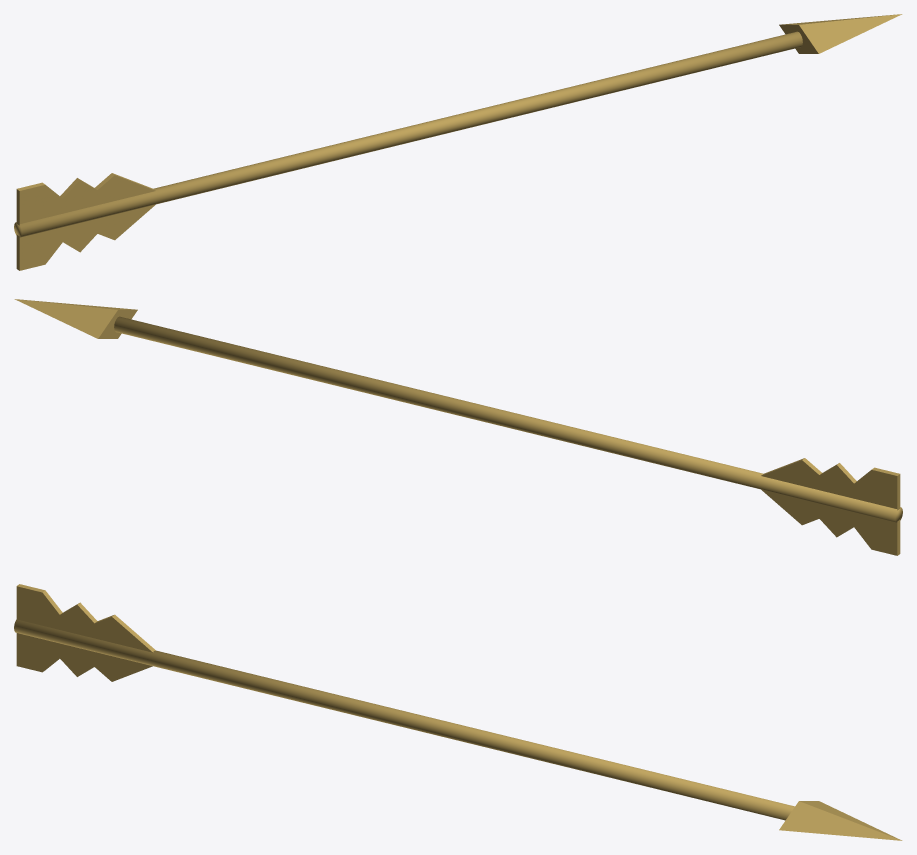
The model's file is aerrowsnake.glb.
3 views of the same model, one above another, from view 1: azimuth 30°, elevation 25°; view 2: azimuth 150°, elevation 25°; view 3: azimuth 330°, elevation 25° (orthographic).
Visible parts, largest first — view 1: Shaft, FeatherTop, FeatherBottom, Arrowhead; view 2: Shaft, FeatherTop, FeatherBottom, Arrowhead; view 3: Shaft, FeatherTop, FeatherBottom, Arrowhead.
Part boxes in pixels (x1,y1,x2,y2): Shaft: (14,31,802,237); FeatherTop: (16,173,155,225); FeatherBottom: (16,204,155,270); Arrowhead: (779,14,902,53); Shaft: (114,316,902,522); FeatherTop: (761,458,900,510); FeatherBottom: (761,489,900,555); Arrowhead: (14,299,137,338); Shaft: (14,619,794,820); FeatherTop: (16,584,155,652); FeatherBottom: (16,633,152,681); Arrowhead: (779,801,902,840).
Size of the model in its own units: 5.1 by 0.44 by 0.4.
